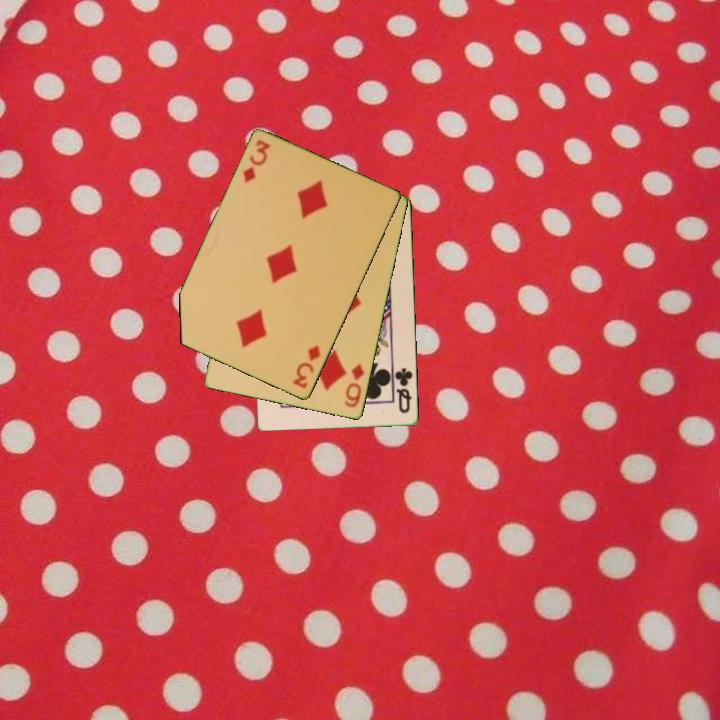3d: (289, 342, 324, 392), (239, 137, 274, 187)
6d: (341, 360, 367, 411)
Qc: (391, 365, 416, 416)
